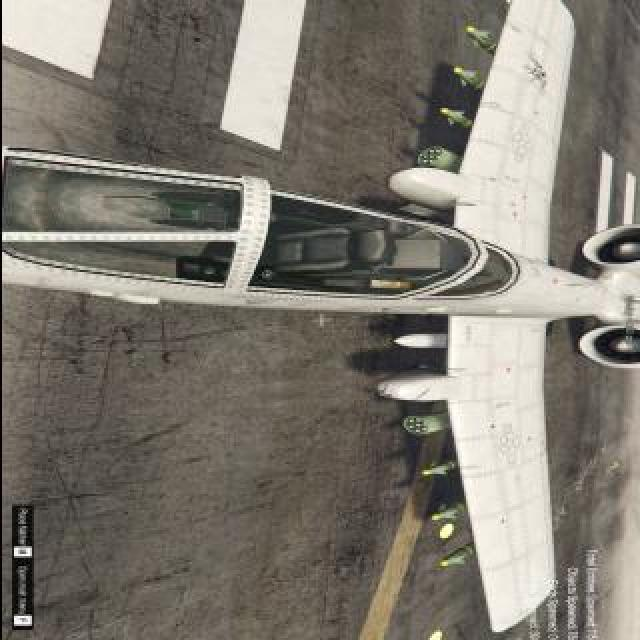crack: (488, 423, 496, 431), (489, 176, 495, 184), (521, 196, 529, 202), (498, 520, 506, 524), (525, 438, 533, 442), (533, 112, 539, 116), (528, 261, 532, 267), (576, 299, 580, 303), (530, 268, 534, 272), (534, 271, 538, 275), (608, 275, 612, 279), (605, 277, 609, 281), (599, 277, 603, 281)
dent: (530, 69, 537, 76), (539, 82, 544, 91), (539, 73, 547, 78)
